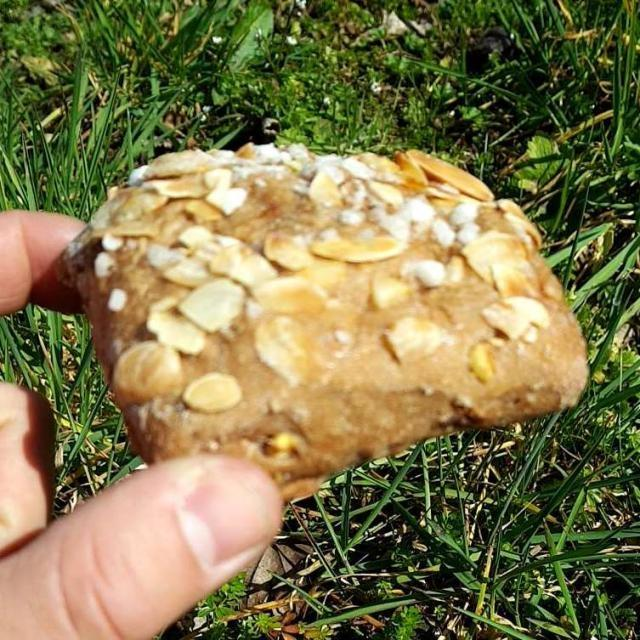bread: (69, 147, 569, 486)
